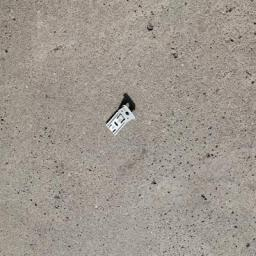FOD: (101, 92, 140, 138)
